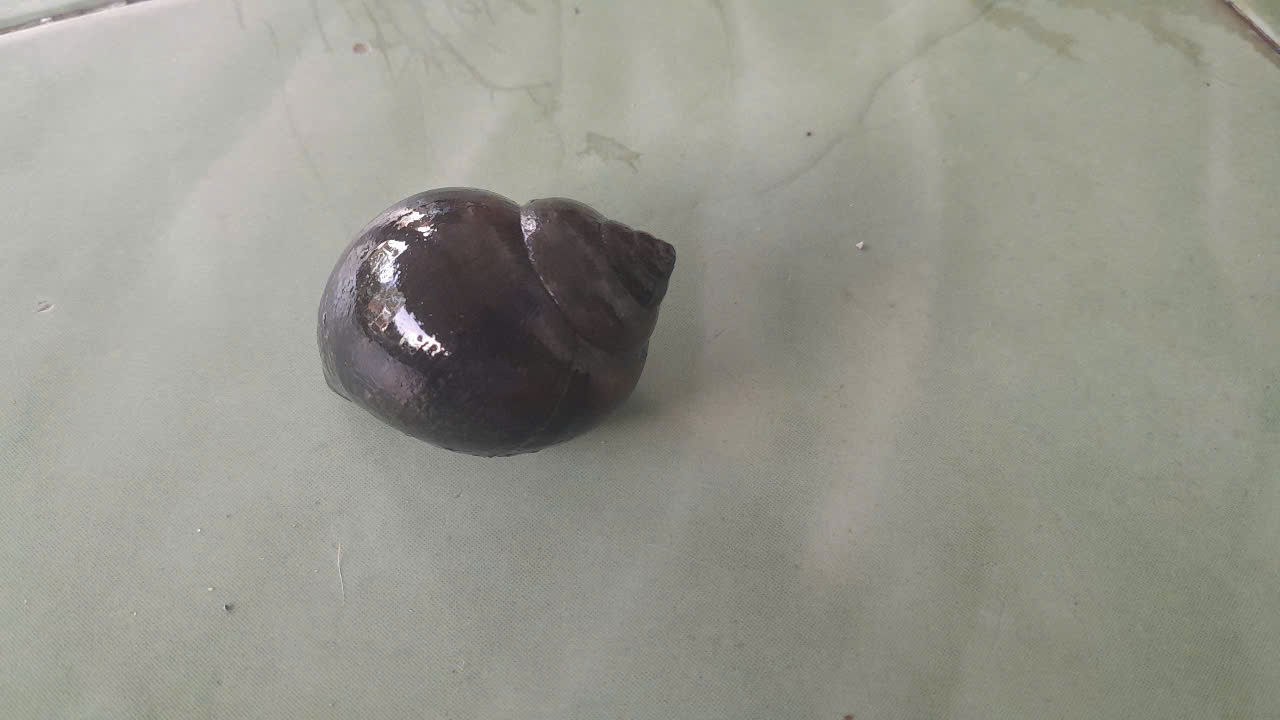oc_buou_den: (307, 155, 690, 474)
